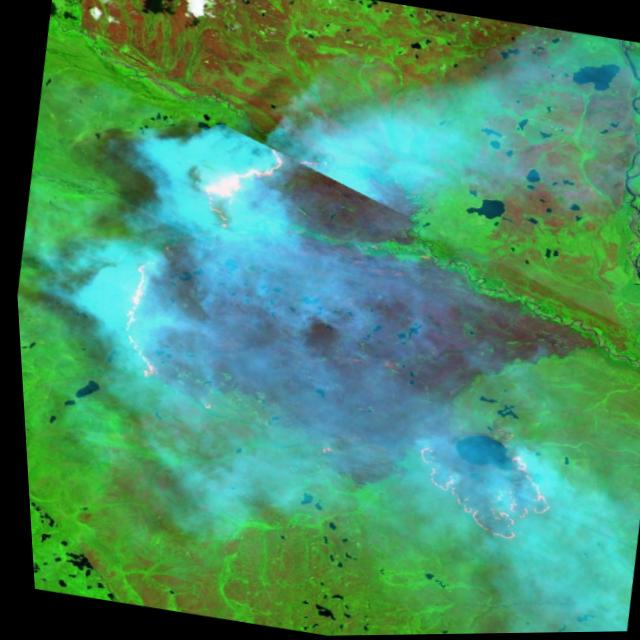fire: (82, 119, 345, 437), (382, 395, 577, 563)
